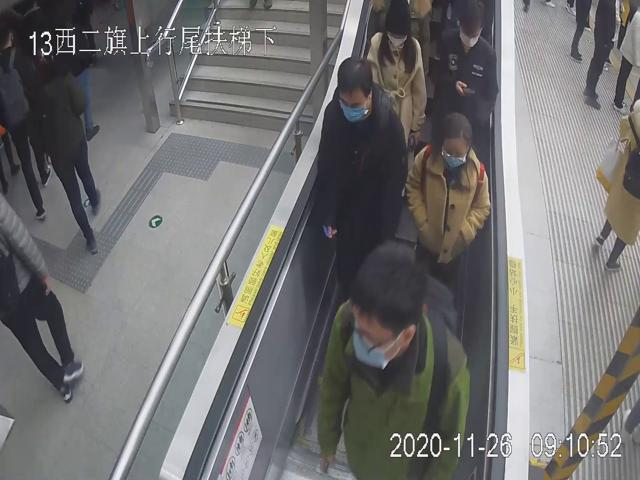person: (316, 236, 471, 480), (314, 55, 406, 301), (406, 106, 493, 284), (427, 0, 499, 150), (363, 0, 427, 157)
